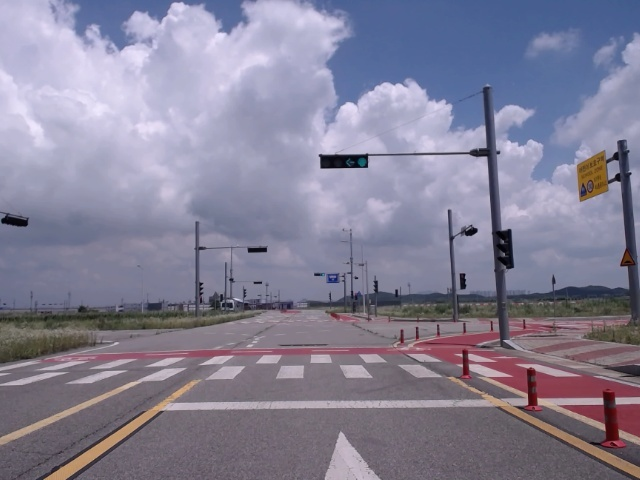all_green_4: (322, 155, 366, 166)
